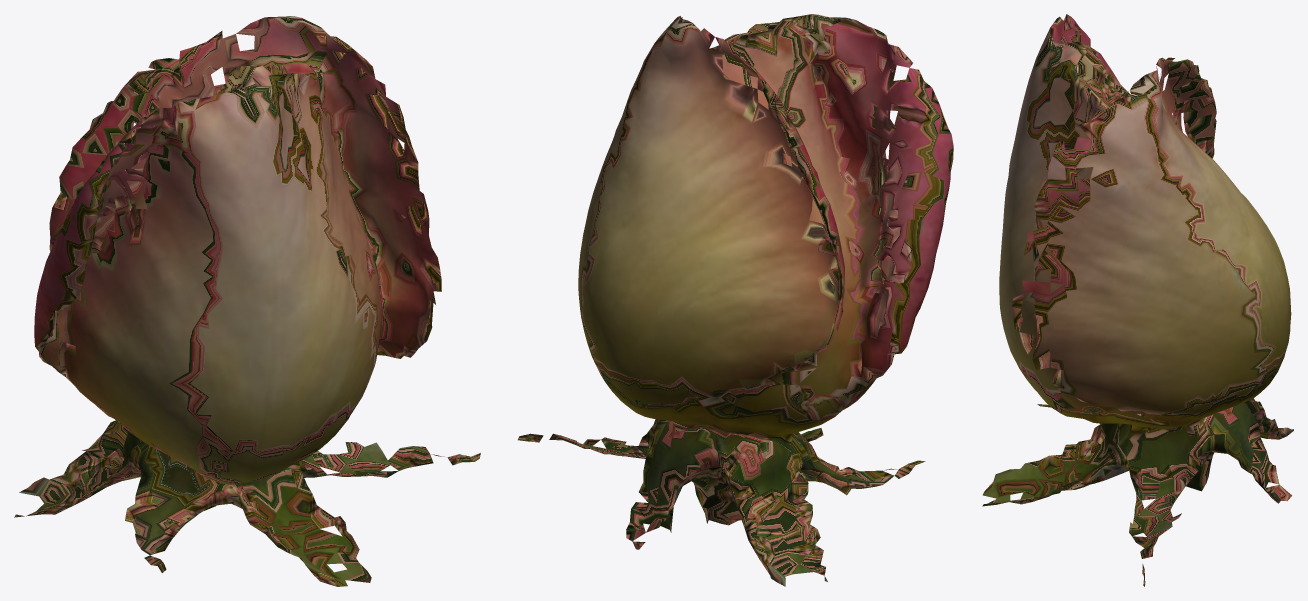
The model's file is rose.glb.
3 renders of one model, left to right at view 1: azimuth 30°, elevation 25°; view 2: azimuth 150°, elevation 25°; view 3: azimuth 270°, elevation 25°, orthographic. The views are drawn at different scales.
Bounding box in the file's own units: 1 × 1.08 × 0.696.
Materials: 1 (1 with a texture image).
